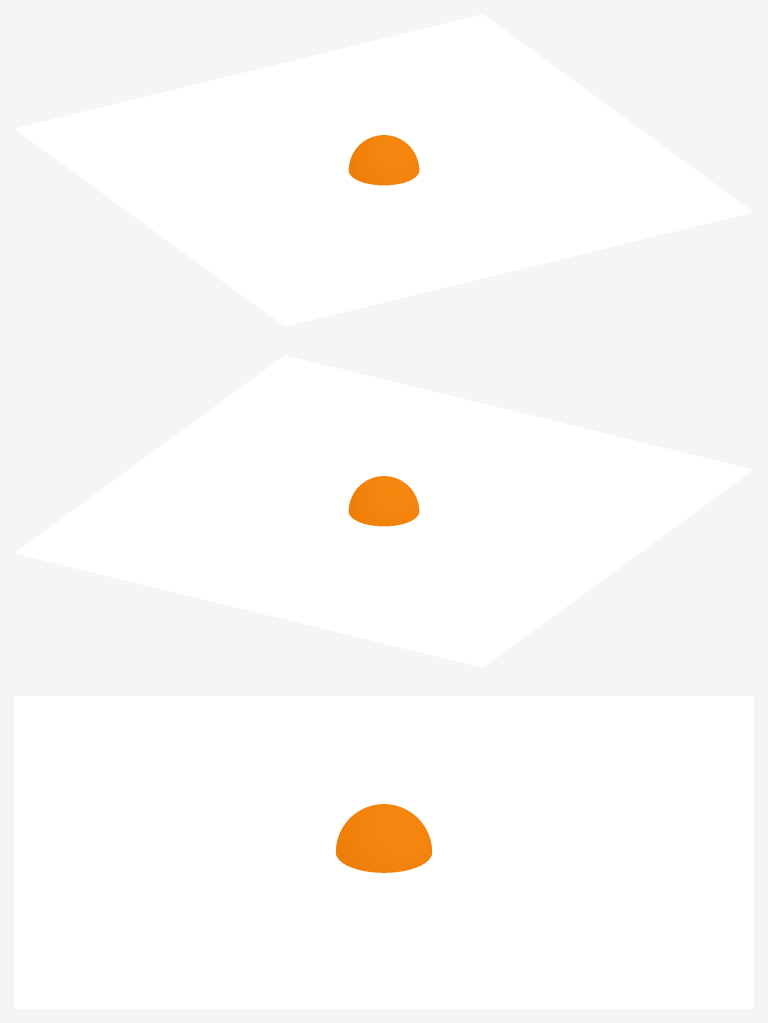
Rendered from blackHole01.glb.
3 views of the same model, one above another, from view 1: azimuth 30°, elevation 25°; view 2: azimuth 150°, elevation 25°; view 3: azimuth 270°, elevation 25° (orthographic). The views are drawn at different scales.
Parts seen in each view (by area): view 1: Plane, Sphere; view 2: Plane, Sphere; view 3: Plane, Sphere.
Part boxes in pixels (x1=…): Plane: x1=14, y1=14, x2=753, y2=326; Sphere: x1=348, y1=135, x2=419, y2=185; Plane: x1=14, y1=355, x2=753, y2=667; Sphere: x1=348, y1=476, x2=419, y2=526; Plane: x1=14, y1=696, x2=753, y2=1008; Sphere: x1=335, y1=804, x2=432, y2=872.
Bounding box in the file's own units: 30 × 3.95 × 30.
